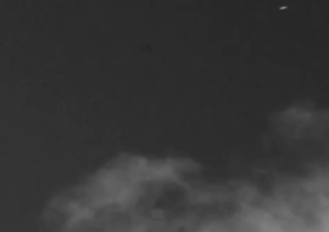Target: (280, 7, 286, 9)
